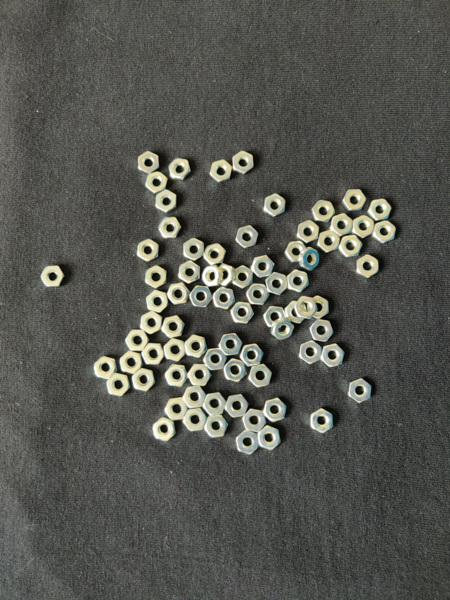nut: (258, 425, 282, 451), (356, 254, 380, 279), (202, 392, 227, 416), (131, 368, 156, 392), (311, 408, 334, 434), (299, 341, 323, 365), (271, 317, 295, 341), (243, 409, 267, 433), (248, 364, 272, 388), (165, 397, 189, 421), (349, 379, 372, 404), (264, 398, 287, 423), (237, 430, 260, 455), (93, 356, 118, 379), (373, 221, 397, 244), (352, 215, 375, 239), (312, 200, 336, 223), (317, 230, 341, 253), (322, 344, 345, 368), (285, 300, 308, 324), (210, 160, 233, 184), (225, 395, 249, 418), (205, 415, 229, 438), (240, 344, 264, 367), (188, 364, 212, 387), (146, 290, 169, 314), (184, 408, 207, 432), (153, 418, 176, 442), (162, 315, 185, 339), (107, 373, 130, 397), (368, 199, 393, 221), (203, 349, 228, 371), (297, 221, 320, 244), (265, 272, 288, 295), (224, 359, 247, 382), (137, 239, 160, 262), (185, 335, 208, 358), (310, 320, 334, 342), (233, 151, 255, 175), (231, 302, 255, 324), (219, 334, 243, 356), (202, 265, 224, 289), (189, 286, 213, 308), (178, 260, 200, 284), (141, 311, 163, 335), (126, 330, 150, 352), (40, 266, 65, 287), (343, 190, 366, 212), (331, 214, 353, 237), (307, 296, 329, 319), (296, 296, 319, 318), (264, 306, 287, 328), (288, 270, 310, 293), (264, 194, 286, 217), (236, 226, 259, 248), (169, 159, 192, 181), (252, 256, 275, 278), (204, 243, 226, 266), (146, 172, 168, 195), (159, 217, 182, 239), (165, 365, 188, 387), (164, 339, 186, 362), (120, 351, 142, 374), (246, 284, 270, 305), (183, 387, 207, 408), (285, 241, 307, 263), (214, 287, 236, 309), (183, 239, 205, 261), (168, 283, 190, 305), (340, 236, 363, 257), (233, 266, 254, 289), (156, 190, 177, 213), (146, 266, 167, 289), (142, 344, 165, 365), (139, 152, 160, 174), (300, 248, 320, 271), (217, 263, 236, 287)
